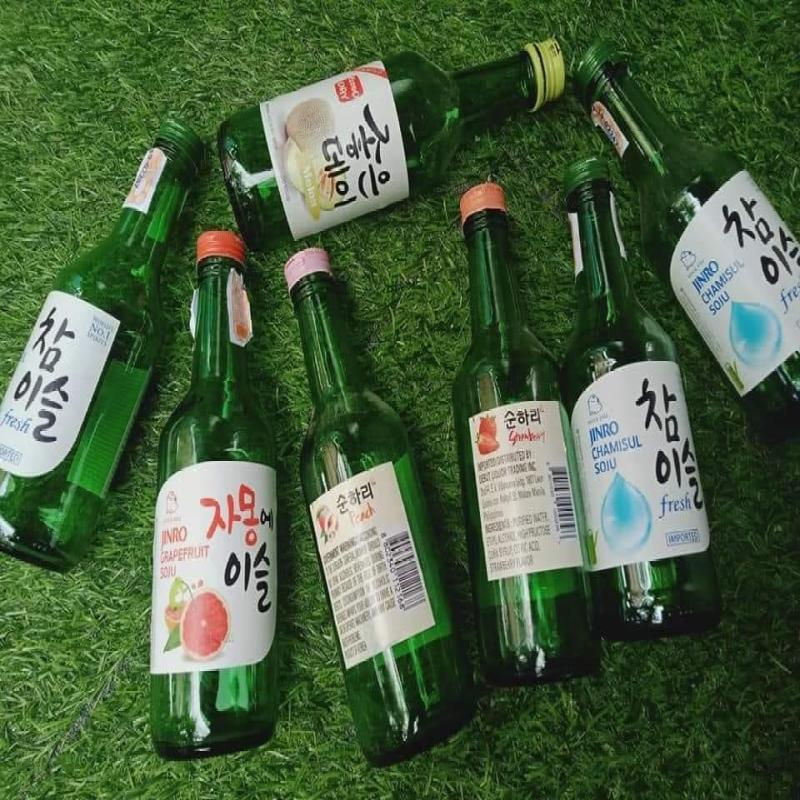glass bottle: (283, 247, 476, 770), (0, 121, 205, 576), (573, 40, 800, 413), (560, 159, 720, 640), (452, 183, 600, 689), (217, 39, 567, 252), (150, 230, 278, 762)
